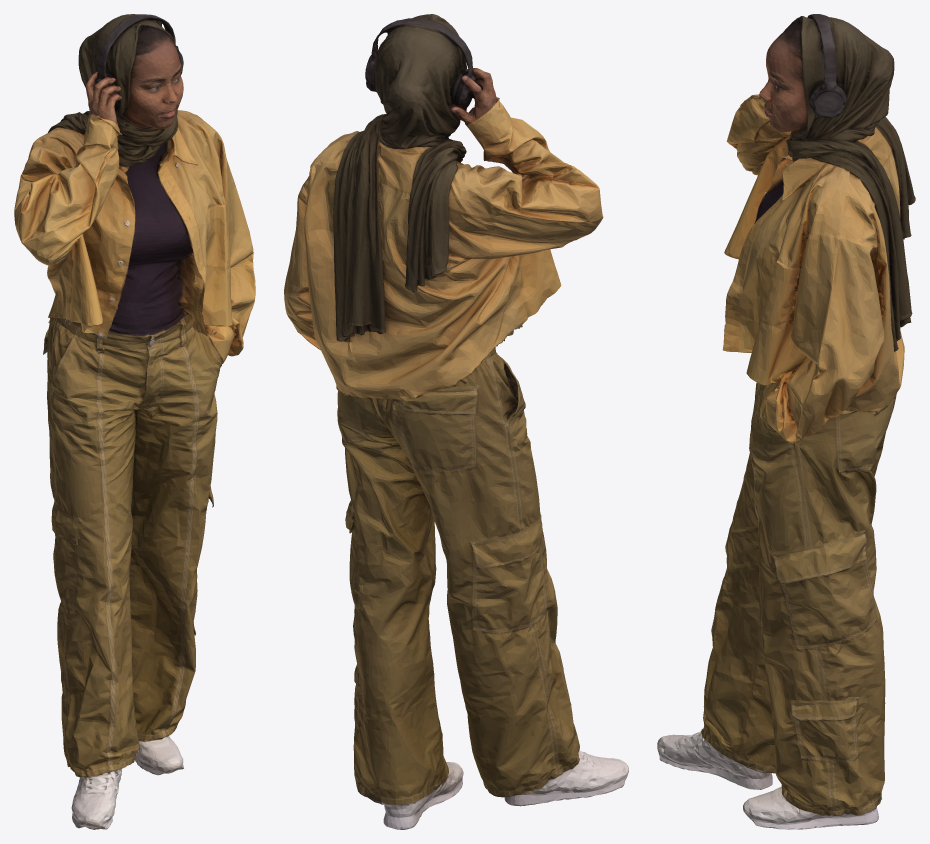
Rendered from woman.glb.
3 renders of one model, left to right at view 1: azimuth 30°, elevation 25°; view 2: azimuth 150°, elevation 25°; view 3: azimuth 270°, elevation 25°, orthographic. The views are drawn at different scales.
Visible parts, largest first — view 1: rp_posed_00178_29; view 2: rp_posed_00178_29; view 3: rp_posed_00178_29.
Boxes of the visible parts, x1,y1,x2,y2 form: rp_posed_00178_29: [14, 14, 255, 829]; rp_posed_00178_29: [284, 14, 628, 829]; rp_posed_00178_29: [657, 14, 915, 829].
Size of the model in its own units: 0.064 by 0.1725 by 0.0505.
Materials: 1 (1 with a texture image).
